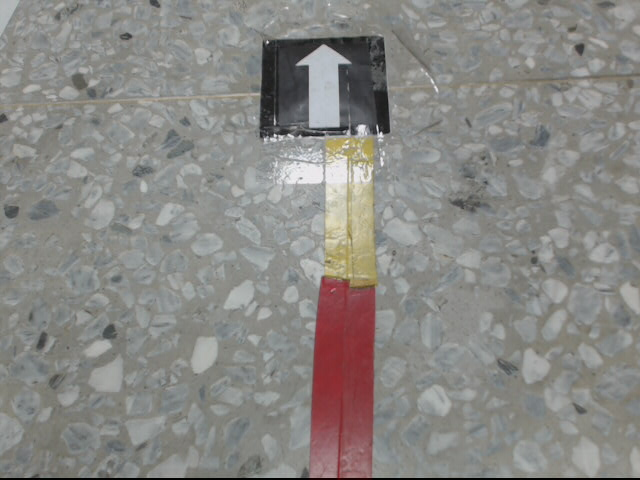straight: (260, 36, 391, 141)
